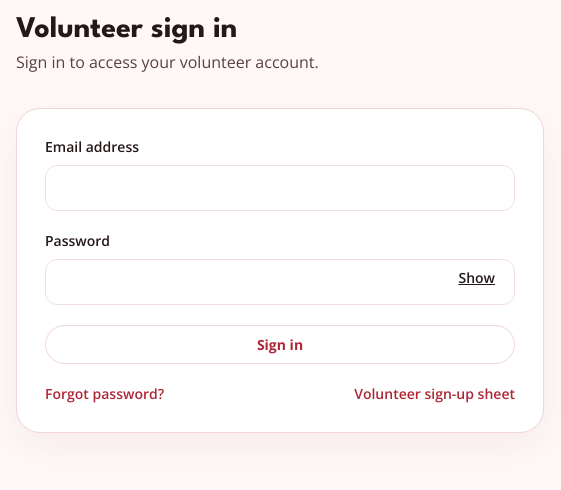
it: volunteer sign-up sheet › supports sign-in and shows a generic invalid-credentials error
In the field labelled "Email address": (280, 188) [45,165,515,211], type "alex@example.test"
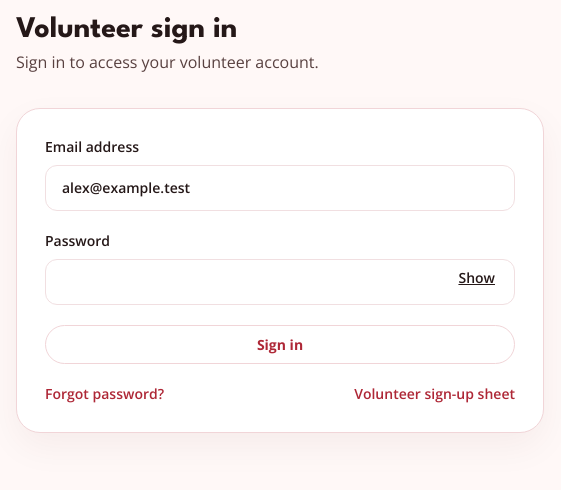
In the password field labelled "Password Show": (280, 282) [45,259,515,305], type "secret-value"
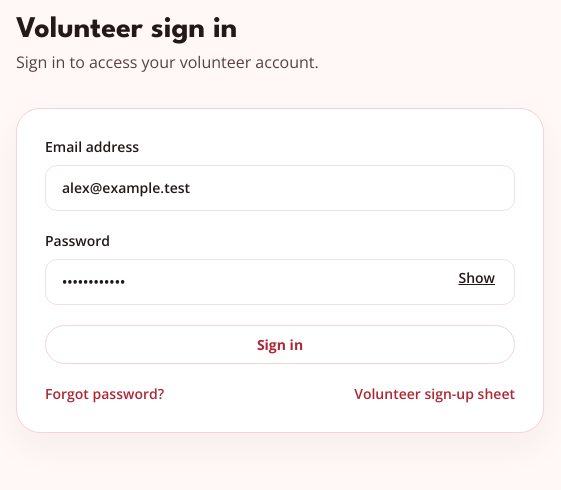
Click the button with aria-label "Show password": (477, 278) [450,264,503,292]
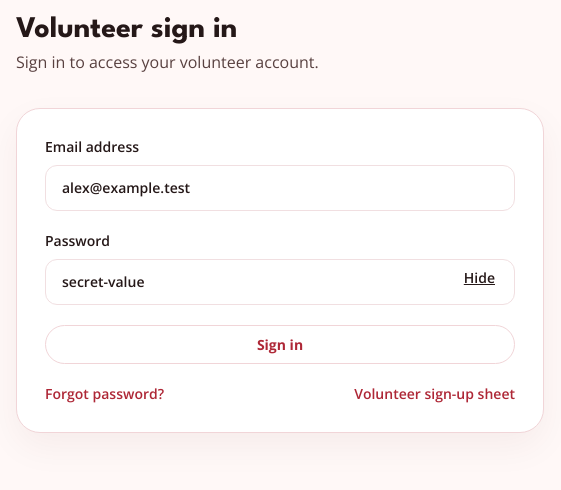
Check: the field labelled "Password Hide" shows its text, box [45,259,515,305]
Click the button "Sign in": (280, 344) [45,325,515,364]
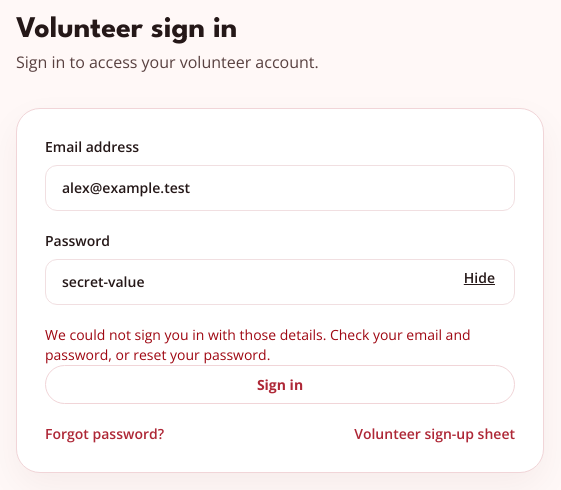
Check: the message shows "We could not sign you in", box [45,325,471,364]
